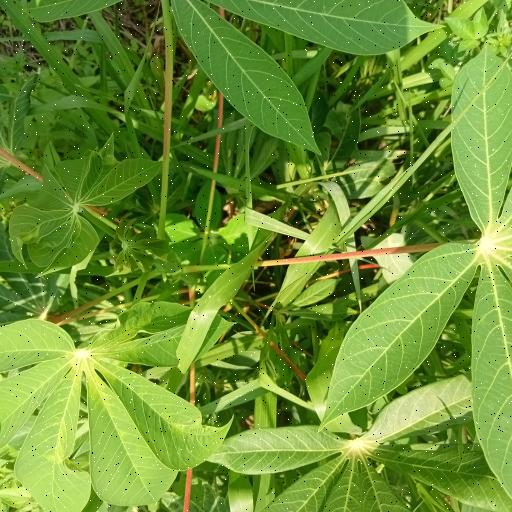Cassava_Healthy: (2, 311, 233, 512), (160, 0, 449, 153), (7, 144, 157, 270)
